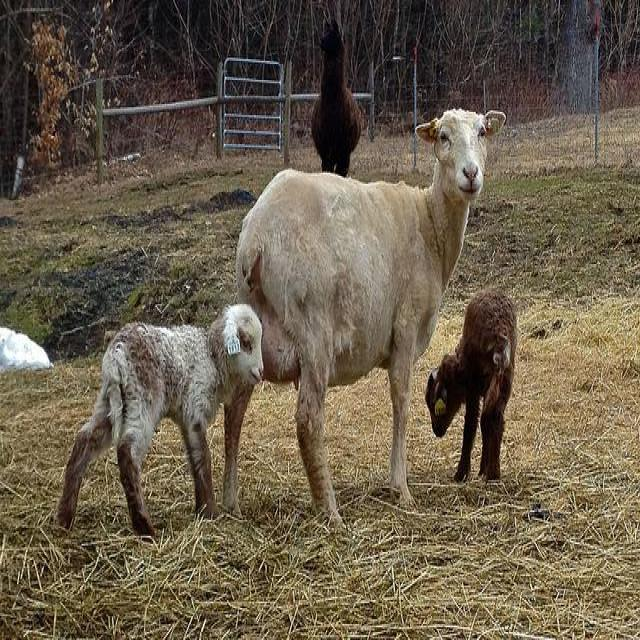Sheep: (222, 110, 507, 526), (56, 288, 517, 539)
